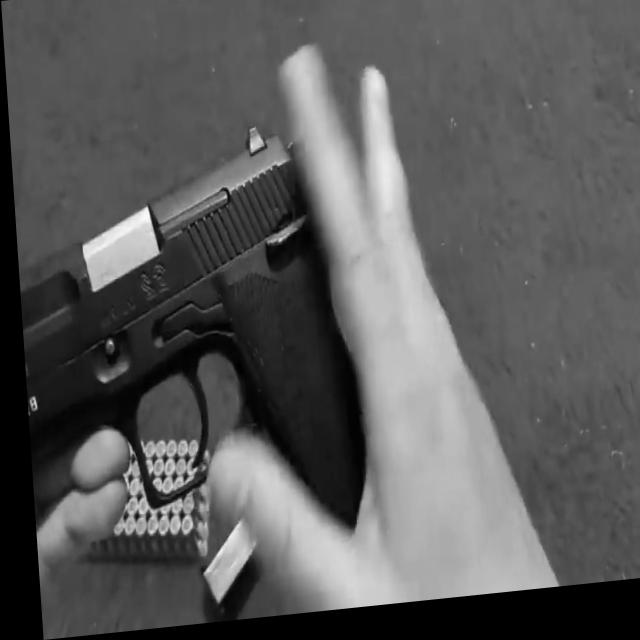handgun: (9, 138, 342, 485)
